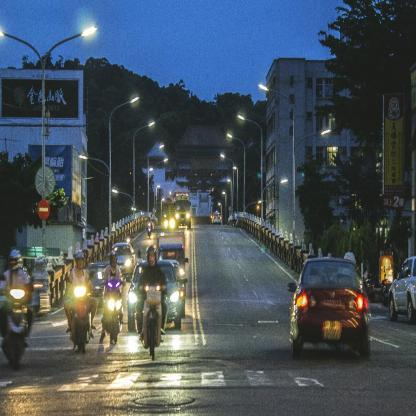Car: (286, 258, 369, 360), (127, 261, 183, 330), (389, 256, 416, 324), (171, 262, 189, 315), (111, 243, 137, 279), (88, 263, 110, 304), (212, 212, 222, 226)
